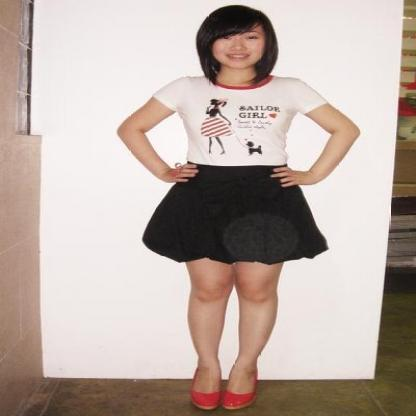shirt: (152, 74, 326, 165)
shoe: (172, 375, 252, 415)
skirt: (142, 162, 328, 264)
